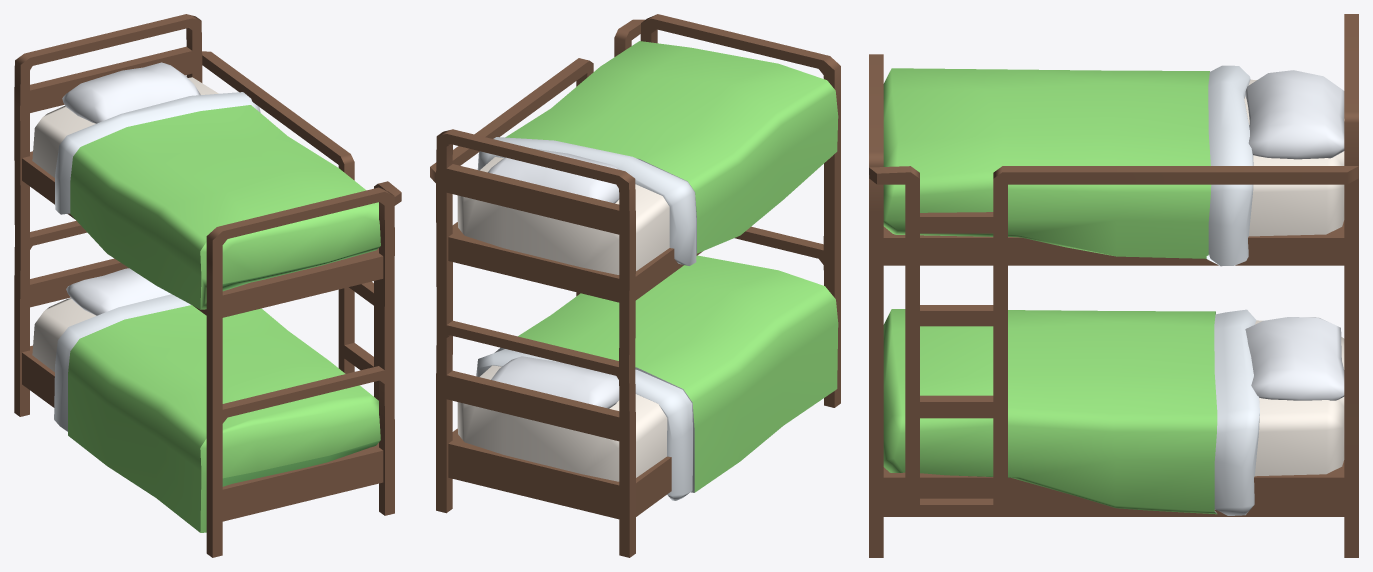
The model's file is SM_Prop_BunkBed_02.obj.
The picture shows the model from 3 angles, left to right: view 1: azimuth 30°, elevation 25°; view 2: azimuth 150°, elevation 25°; view 3: azimuth 270°, elevation 25°; orthographic projection. The views are drawn at different scales.
Parts seen in each view (by area): view 1: SM_Prop_BunkBed_02_Mat_SwatchOverlay_PolygonTown_01_Inst; view 2: SM_Prop_BunkBed_02_Mat_SwatchOverlay_PolygonTown_01_Inst; view 3: SM_Prop_BunkBed_02_Mat_SwatchOverlay_PolygonTown_01_Inst.
Part boxes in pixels (x1=…): SM_Prop_BunkBed_02_Mat_SwatchOverlay_PolygonTown_01_Inst: x1=14, y1=14, x2=401, y2=557; SM_Prop_BunkBed_02_Mat_SwatchOverlay_PolygonTown_01_Inst: x1=430, y1=14, x2=840, y2=557; SM_Prop_BunkBed_02_Mat_SwatchOverlay_PolygonTown_01_Inst: x1=869, y1=14, x2=1358, y2=557.
Bounding box in the file's own units: 1.4 × 2.35 × 2.37.
1 material, 1 textured.
